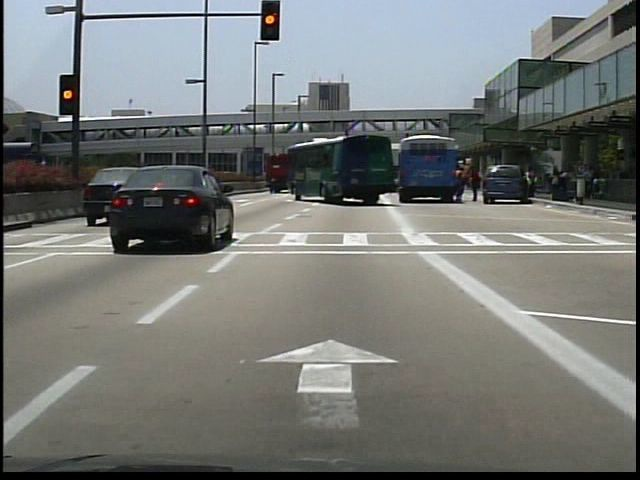person: (467, 161, 481, 204), (457, 163, 472, 203), (524, 168, 537, 205)
